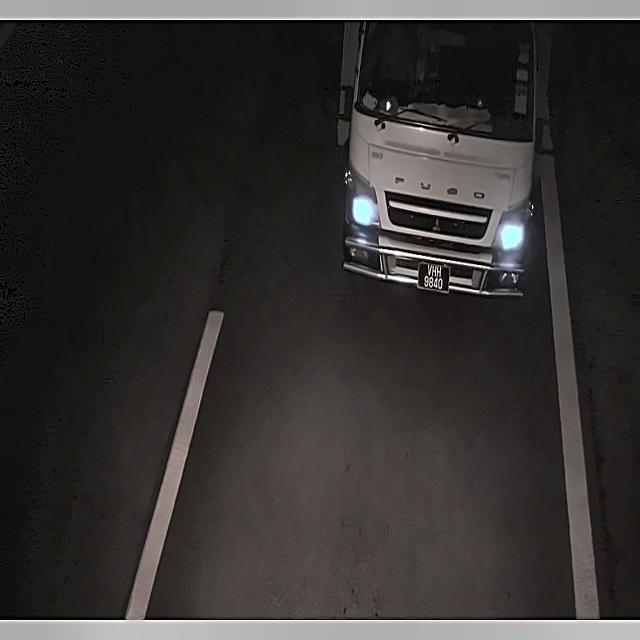car: (417, 256, 449, 295)
